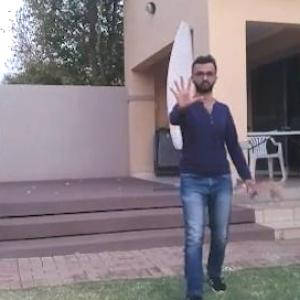follow_hand: (166, 72, 206, 114)
